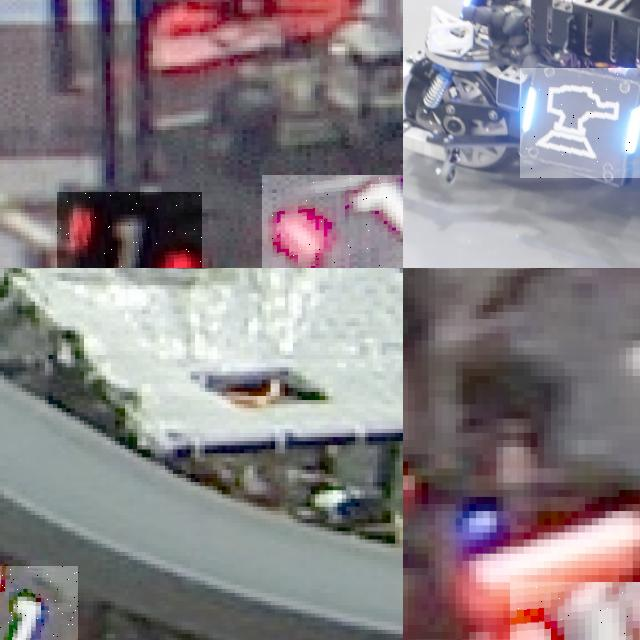Bs: (520, 68, 640, 178)
R1: (262, 175, 403, 268), (57, 192, 202, 268), (510, 582, 640, 640), (0, 566, 79, 640)
